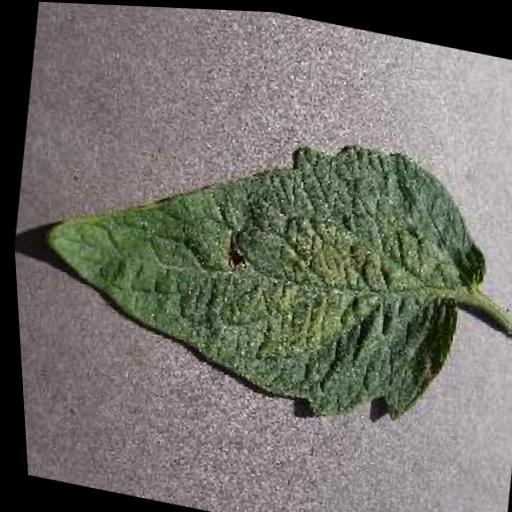Spider Mites: (12, 84, 504, 443)
